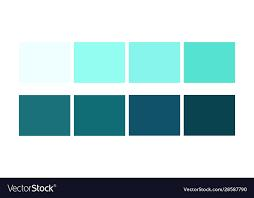cyan_zone: (74, 41, 126, 84), (130, 42, 180, 85)
